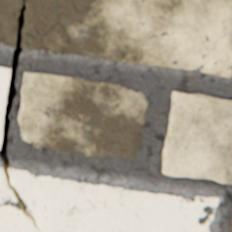brick: (18, 72, 147, 157), (161, 91, 231, 183), (0, 66, 10, 148), (229, 211, 231, 231)
broken_brick: (21, 0, 231, 77), (0, 166, 217, 231), (0, 0, 22, 47)
crack: (0, 0, 41, 231), (189, 196, 191, 202)
